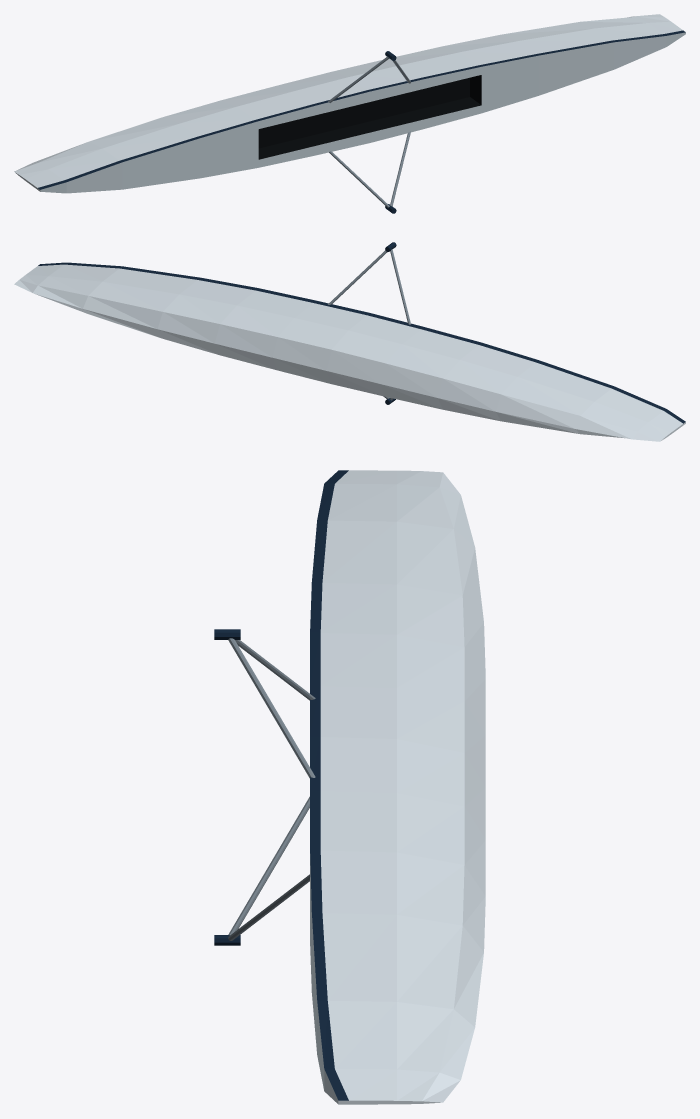
The model's file is SM_ScullHull.obj.
3 views of the same model, one above another, from view 1: azimuth 30°, elevation 25°; view 2: azimuth 150°, elevation 25°; view 3: azimuth 270°, elevation 25° (orthographic). The views are drawn at different scales.
Visible parts, largest first — view 1: SM_ScullHull; view 2: SM_ScullHull; view 3: SM_ScullHull.
Boxes of the visible parts, x1,y1,x2,y2 form: SM_ScullHull: [14, 14, 685, 213]; SM_ScullHull: [14, 242, 685, 441]; SM_ScullHull: [214, 470, 485, 1104].
Size of the model in its own units: 840 by 196 by 153.
